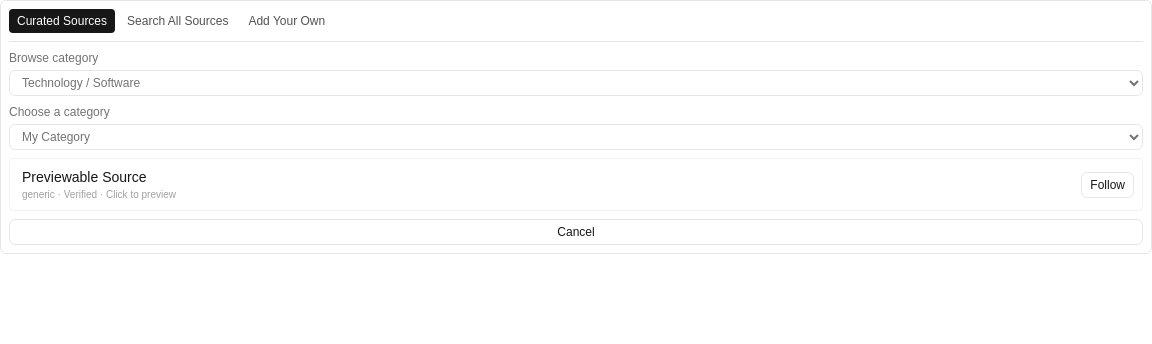
Test: AddSourceFlow — curated tab shows unfollow (not just 'already following') for a followed source › previews a curated source without following it
Click the button "Previewable Source generic · Verified · Click to preview". click: [84, 177]
box: [18, 165, 1073, 204]
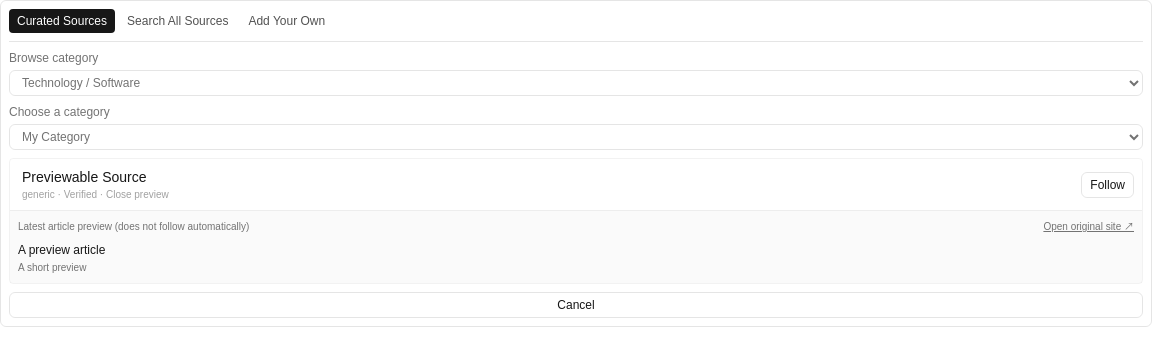
Expected: the button "Follow" is shown, [1081, 172, 1134, 198]
Now the link "A preview article" is shown, box [18, 242, 105, 258]
Now the text "A short preview" is shown, box [18, 262, 86, 273]
